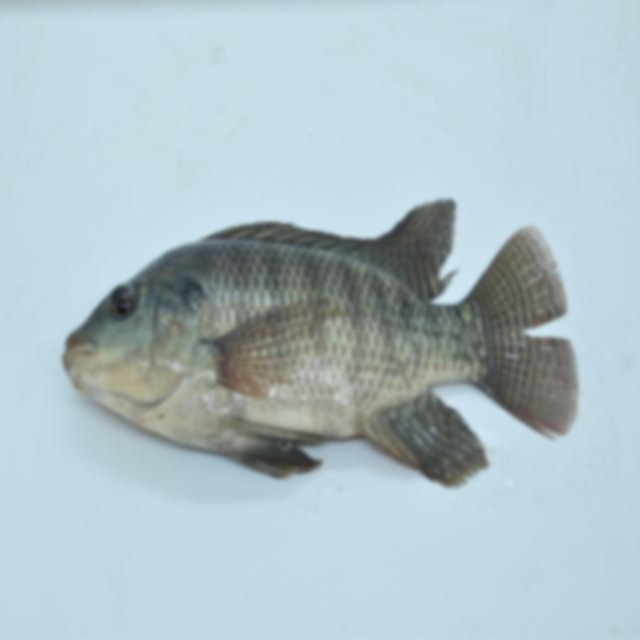Healthy Fish: (61, 200, 596, 490), (595, 482, 596, 486)
